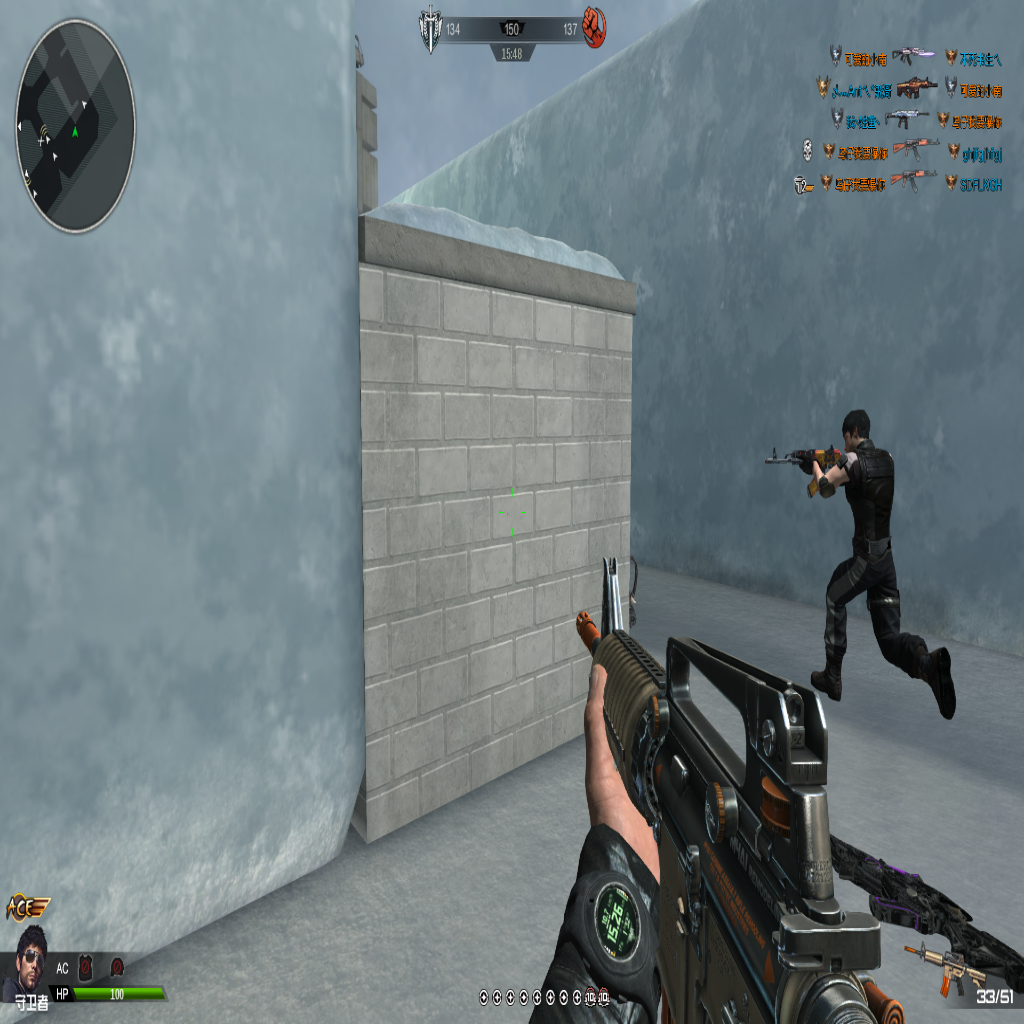ct: (797, 408, 956, 722)
